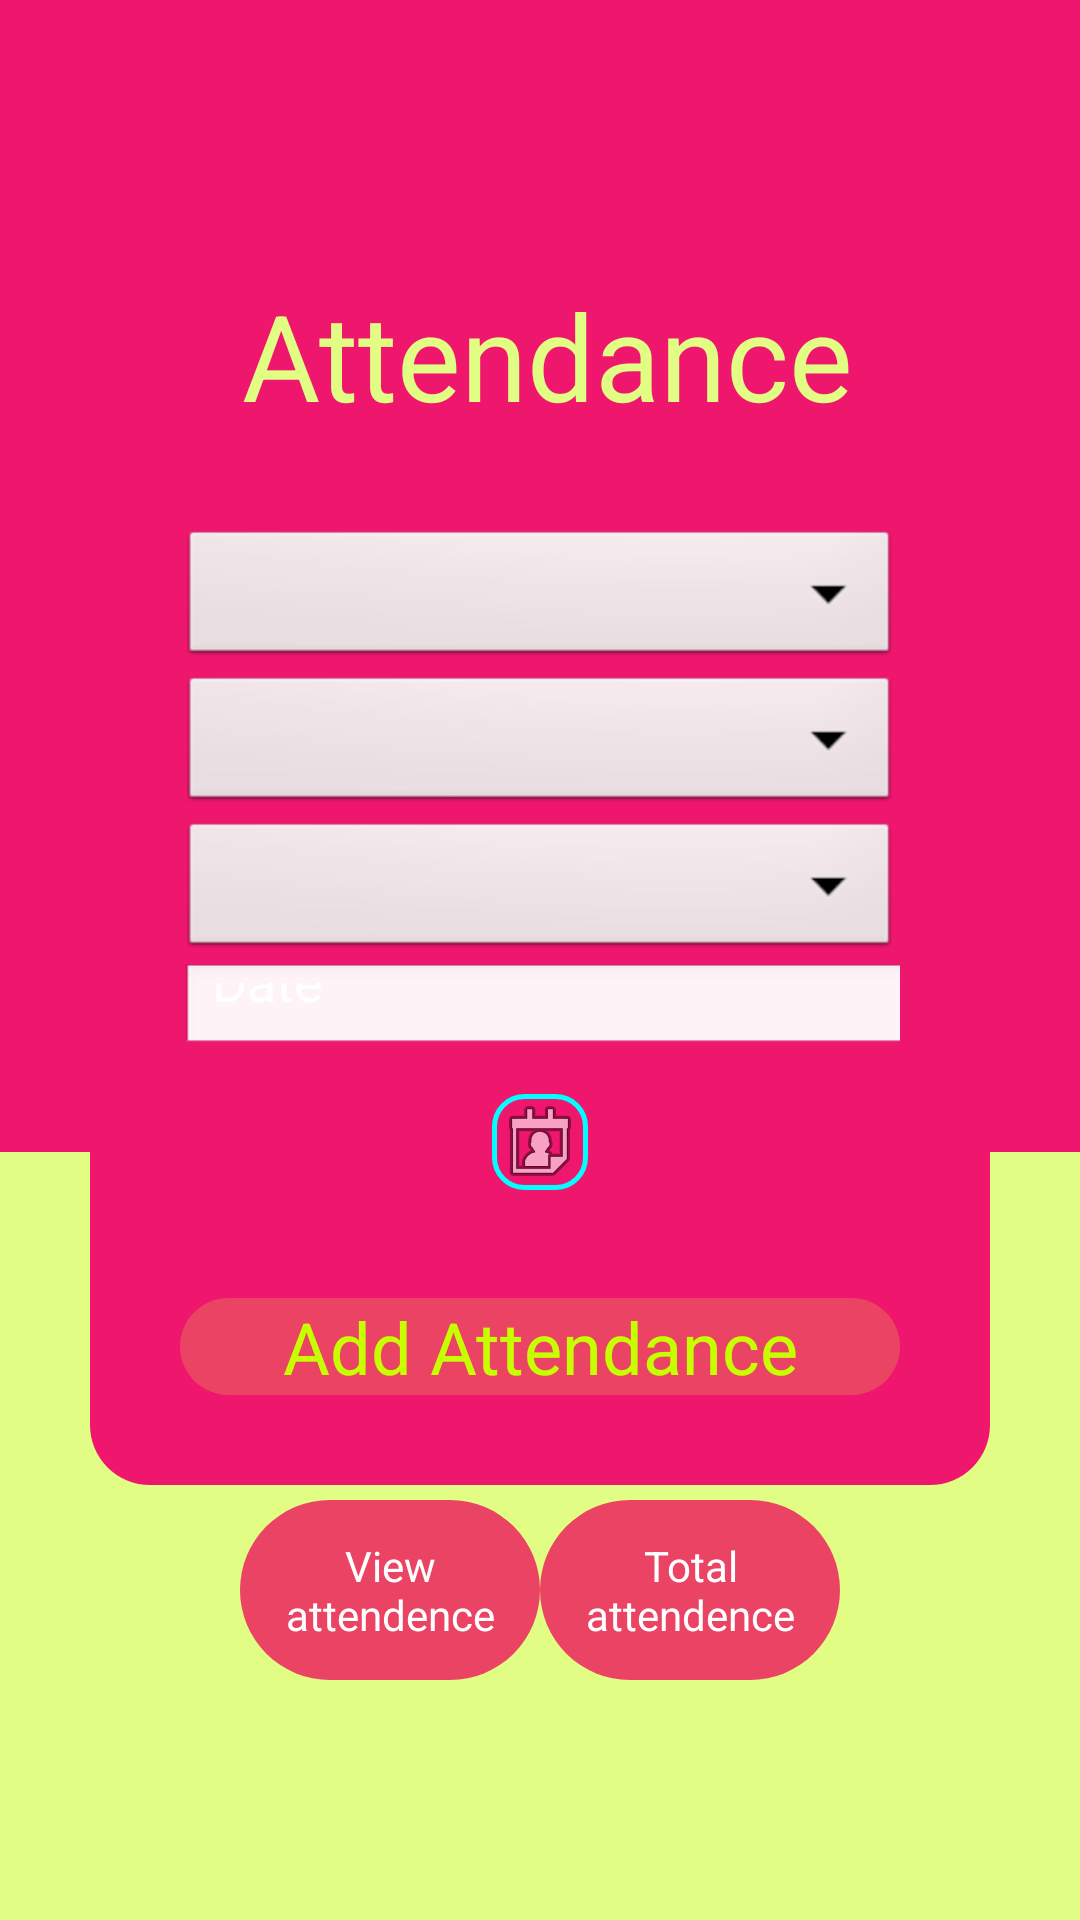

Locate icon controls on the screen. Image size 1080px×1920px, boxes as (x1=x1, y1=y1, x2=x2, y2=y2).
calendar: (x1=492, y1=1094, x2=588, y2=1190)
